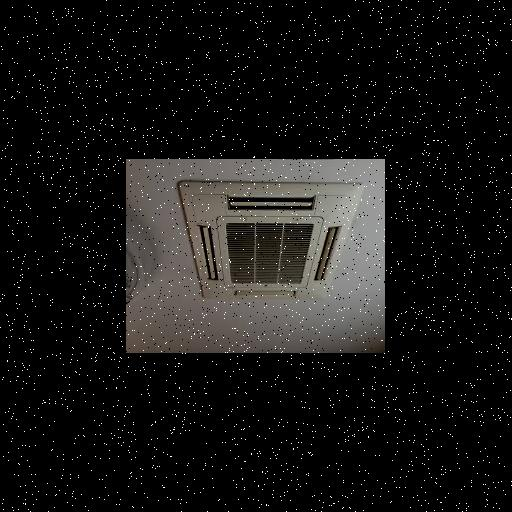4-way-ac: (179, 180, 364, 298)
